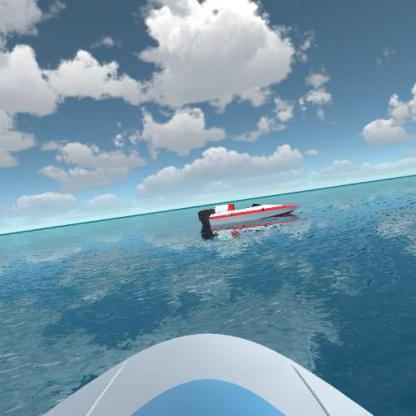usv3: (196, 196, 302, 238)
